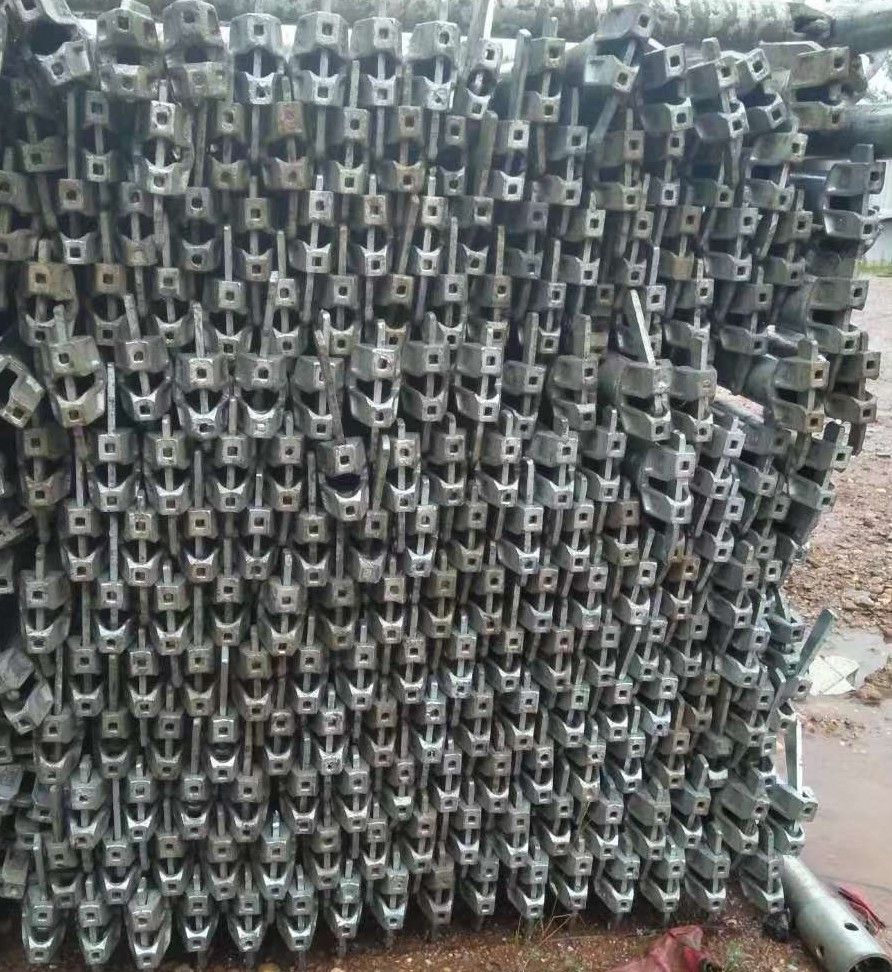THsquare_steel: (84, 6, 161, 102), (158, 1, 230, 102), (8, 1, 87, 88), (316, 443, 374, 522), (737, 46, 788, 131), (806, 41, 852, 132), (642, 47, 694, 127), (433, 113, 471, 199), (13, 900, 60, 965), (39, 843, 86, 905), (1, 355, 38, 429), (771, 673, 811, 729), (602, 680, 631, 742), (745, 738, 778, 788)
THsquare_steel_blocked: (581, 5, 658, 91), (346, 14, 411, 111), (226, 10, 288, 110), (135, 99, 192, 196), (291, 11, 349, 106), (43, 339, 104, 429), (6, 80, 62, 178), (824, 157, 886, 242), (71, 90, 124, 186), (411, 16, 464, 111), (14, 259, 71, 346), (171, 353, 228, 439), (265, 101, 318, 193), (691, 56, 749, 139), (233, 353, 287, 440), (294, 353, 347, 441), (205, 103, 256, 194), (114, 340, 171, 421), (327, 108, 376, 198), (143, 264, 195, 347), (520, 35, 567, 126), (19, 569, 68, 655), (84, 266, 136, 347), (87, 433, 139, 514), (12, 427, 65, 506), (552, 352, 605, 430), (378, 110, 430, 188), (400, 349, 452, 426), (457, 36, 505, 119), (144, 431, 192, 514), (619, 361, 670, 439), (485, 116, 530, 204), (204, 280, 255, 356), (349, 352, 398, 430), (288, 511, 337, 588), (458, 347, 506, 424), (2, 652, 47, 734), (171, 186, 214, 271), (408, 192, 451, 277), (507, 201, 553, 280), (319, 274, 363, 356), (207, 438, 257, 510), (710, 205, 756, 283), (55, 508, 104, 581), (256, 584, 305, 657), (757, 132, 804, 208), (801, 444, 852, 514), (264, 279, 308, 360), (785, 357, 831, 434), (546, 125, 589, 207), (818, 276, 865, 351), (51, 180, 91, 268), (145, 584, 193, 657), (176, 508, 222, 584), (264, 435, 308, 514), (294, 190, 336, 272), (560, 205, 602, 287), (116, 182, 156, 268), (653, 447, 697, 524), (351, 194, 391, 278), (674, 365, 717, 442), (120, 511, 163, 588), (533, 434, 577, 509), (347, 512, 392, 585), (312, 580, 361, 647), (398, 506, 442, 580), (505, 361, 548, 435), (237, 195, 273, 283), (613, 208, 653, 287), (386, 434, 426, 513), (93, 582, 135, 657), (482, 432, 523, 508), (64, 646, 106, 720), (605, 134, 645, 211), (665, 205, 706, 280), (774, 212, 815, 287), (427, 433, 468, 508), (528, 283, 571, 354), (626, 289, 670, 358), (30, 718, 74, 787), (371, 275, 413, 347), (122, 648, 164, 720), (743, 425, 786, 495), (649, 134, 689, 209), (431, 274, 471, 349), (238, 507, 278, 582), (585, 431, 626, 504), (179, 648, 222, 717), (121, 900, 164, 969), (727, 286, 771, 353), (207, 577, 249, 647), (366, 574, 409, 642), (468, 564, 509, 635), (282, 651, 328, 714), (842, 349, 880, 425), (232, 647, 271, 721), (90, 716, 135, 780), (460, 198, 496, 277), (719, 792, 768, 850), (171, 775, 214, 841), (144, 715, 188, 779), (117, 777, 161, 841), (603, 499, 645, 566), (66, 778, 105, 850), (229, 775, 269, 845), (450, 506, 493, 571), (721, 622, 766, 684), (751, 497, 793, 563), (503, 506, 543, 575), (361, 699, 401, 768), (335, 643, 375, 711), (532, 629, 575, 692), (437, 634, 477, 700), (777, 789, 817, 855), (478, 272, 514, 345), (679, 282, 717, 351), (199, 717, 239, 782), (149, 835, 189, 900), (706, 430, 742, 502), (423, 569, 461, 637), (68, 903, 111, 963), (580, 627, 621, 688), (259, 711, 298, 775), (762, 617, 805, 675), (94, 840, 133, 903), (714, 560, 751, 625), (391, 638, 429, 701), (571, 561, 605, 631), (707, 501, 746, 562), (499, 688, 538, 749), (697, 845, 731, 914), (731, 688, 772, 745), (276, 890, 317, 947), (490, 629, 527, 692), (702, 147, 739, 209), (526, 568, 560, 635), (205, 836, 240, 901), (551, 684, 587, 747), (2, 784, 56, 826), (455, 695, 491, 757), (627, 621, 664, 681), (326, 882, 367, 936), (259, 835, 293, 900), (1, 168, 24, 263), (677, 675, 716, 731), (561, 507, 594, 573), (314, 709, 347, 775), (632, 793, 666, 857), (286, 771, 322, 831), (475, 750, 511, 810), (228, 895, 267, 950), (667, 554, 699, 621), (333, 774, 371, 830), (671, 788, 707, 847), (608, 738, 648, 791), (623, 558, 655, 624), (409, 702, 443, 763), (652, 850, 686, 911), (749, 854, 784, 913), (642, 678, 676, 738), (606, 853, 640, 913), (371, 874, 408, 929), (468, 858, 504, 914), (516, 860, 552, 915), (434, 755, 468, 813), (558, 850, 592, 908), (180, 896, 215, 952), (675, 617, 707, 678), (309, 826, 339, 891), (590, 798, 624, 855), (422, 865, 456, 922), (652, 734, 689, 786), (502, 805, 532, 868), (542, 796, 572, 858), (385, 762, 417, 820), (449, 806, 481, 864), (573, 746, 605, 800), (406, 814, 435, 873), (358, 820, 386, 880), (525, 750, 556, 803), (760, 558, 783, 618)
